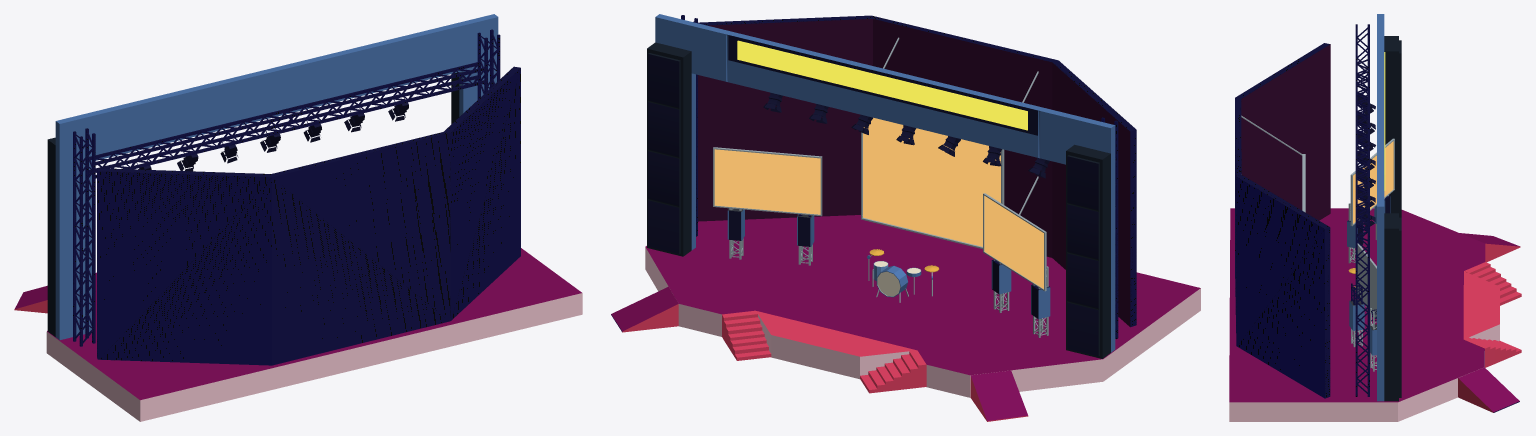
Rendered from Stage.fbx.
3 renders of one model, left to right at view 1: azimuth 30°, elevation 25°; view 2: azimuth 150°, elevation 25°; view 3: azimuth 270°, elevation 25°, orthographic. The views are drawn at different scales.
Visible parts, largest first — view 1: Stage; view 2: Stage; view 3: Stage.
Boxes of the visible parts, x1,y1,x2,y2 form: Stage: (14, 14, 582, 421); Stage: (611, 14, 1200, 421); Stage: (1229, 14, 1521, 421).
Size of the model in its own units: 33.75 by 17.37 by 21.49.
